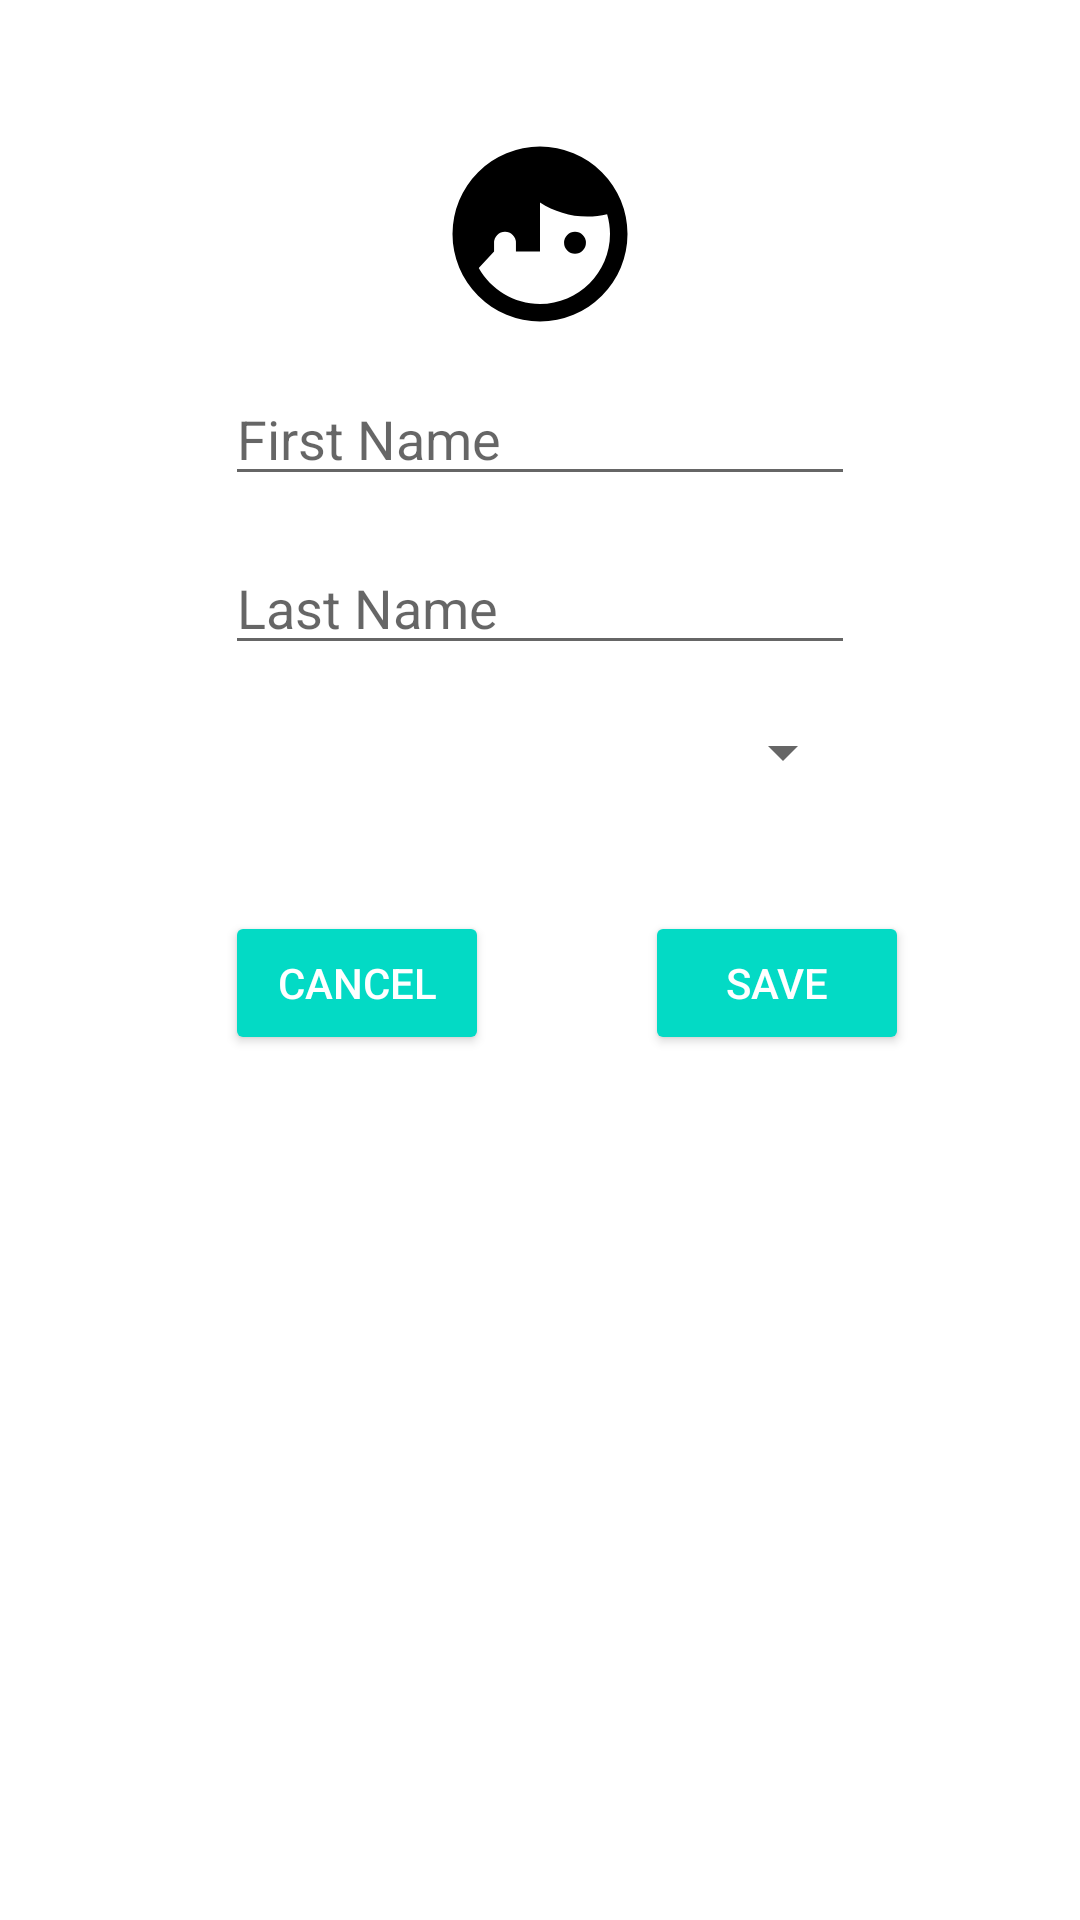

Named icons in this screenshot (1080 x 1920) and their centers, (x,y):
selfprofile: (540,234)
